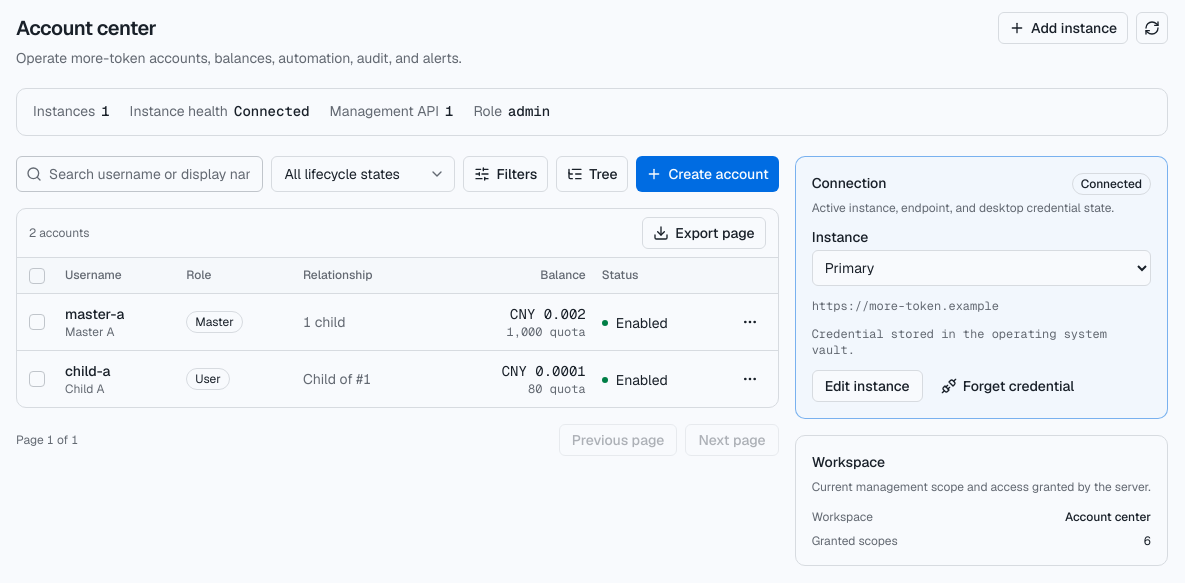
it: bulk actions › relabels the batch while the browser approval is open and cancels it quietly
This screenshot has width=1185, height=583.
What coordinates should you click on to do the following:
click the checkbox named "child-a"
I would click on:
 (37, 379)
Its box is [29, 371, 45, 387].
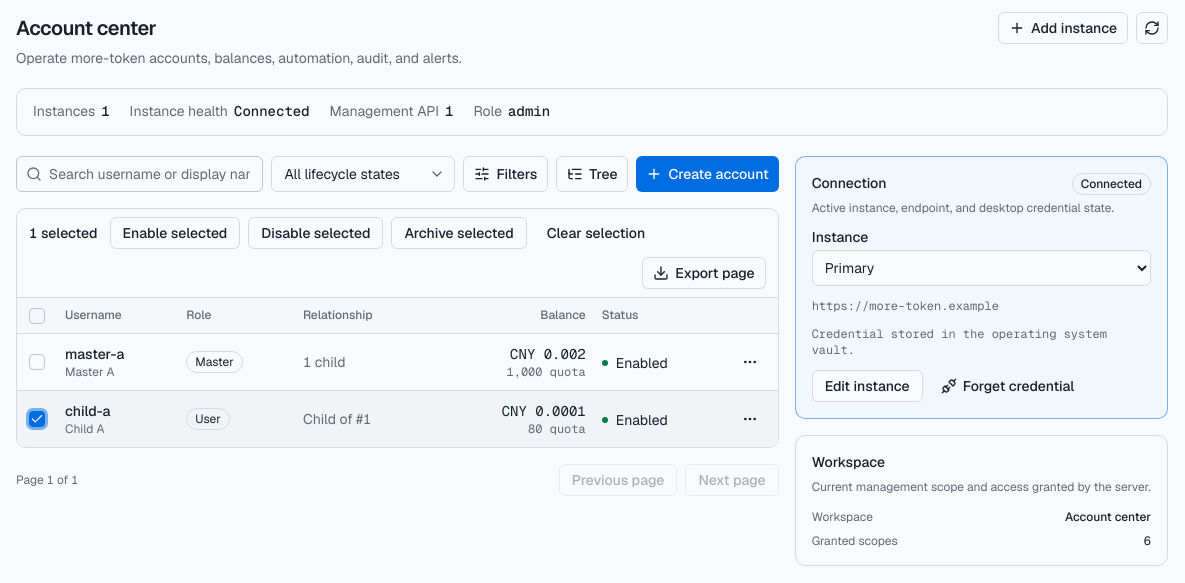
What coordinates should you click on to do the following:
click the button "Disable selected"
I would click on:
 (316, 233)
Its box is [248, 217, 384, 249].
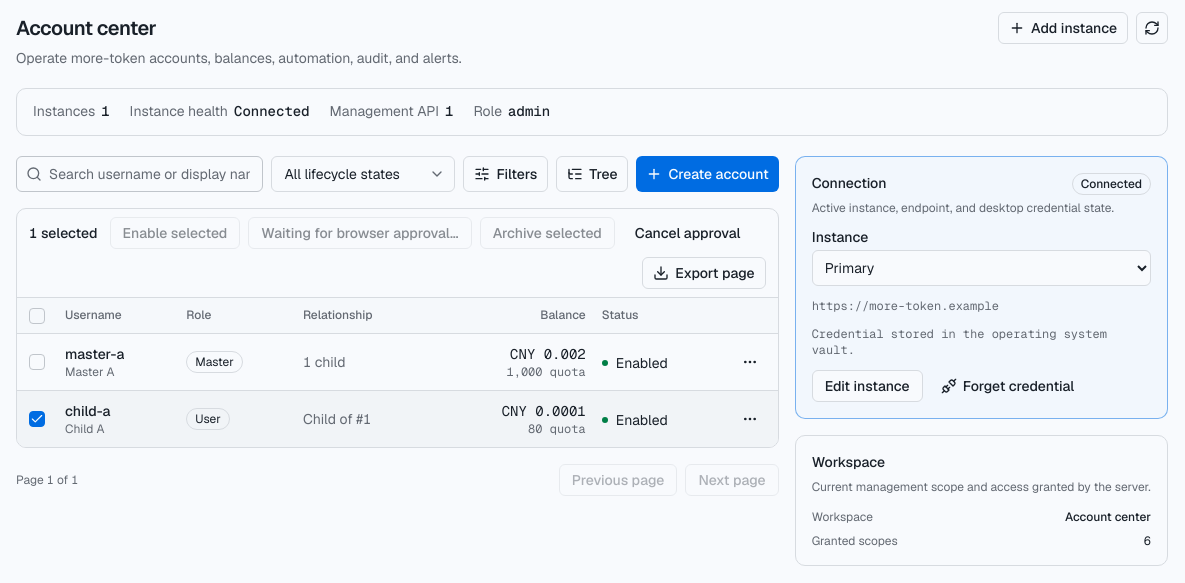
Expected: the button "Waiting for browser approval…" is disabled, [248, 217, 472, 249]
What coordinates should you click on to do the following:
click the button "Cancel approval"
I would click on:
 (688, 233)
Its box is [623, 217, 752, 249].
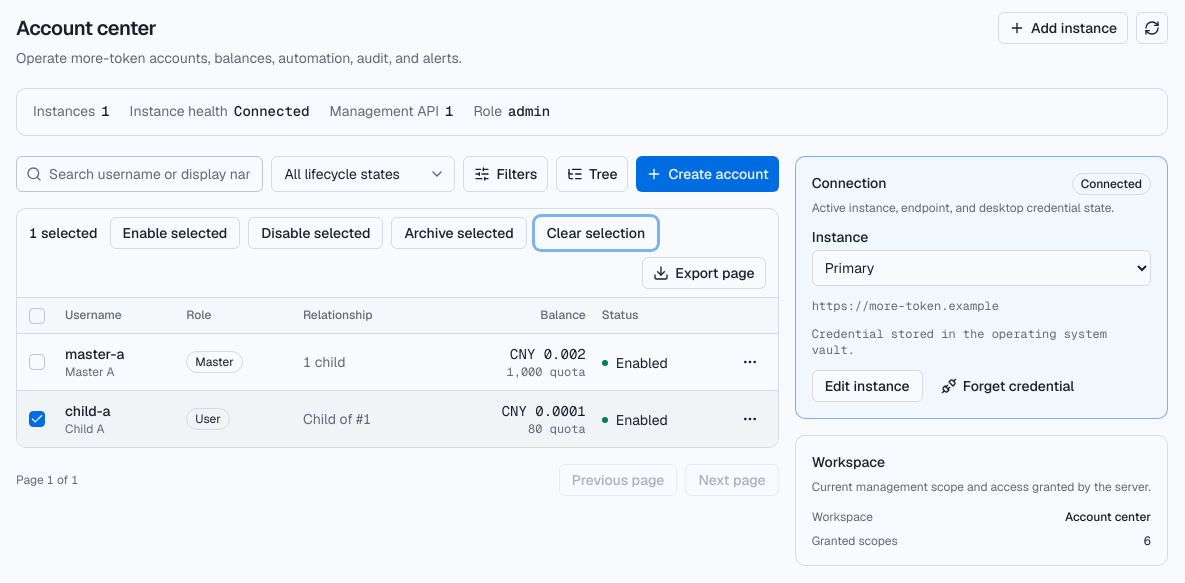
Expected: the button "Disable selected" is enabled, [248, 217, 384, 249]
